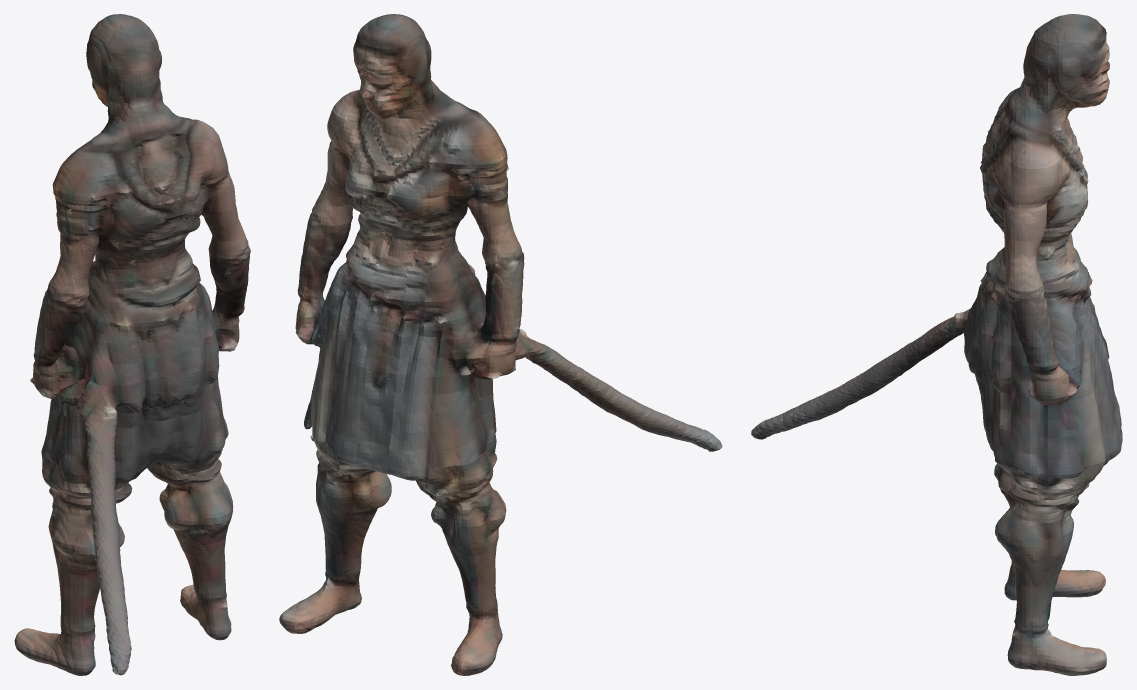
The model's file is girl_1.glb.
3 views of the same model, side by side, from view 1: azimuth 30°, elevation 25°; view 2: azimuth 150°, elevation 25°; view 3: azimuth 270°, elevation 25° (orthographic). The views are drawn at different scales.
Parts seen in each view (by area): view 1: world; view 2: world; view 3: world.
Boxes of the visible parts, x1,y1,x2,y2 form: world: [14, 14, 250, 675]; world: [279, 14, 722, 675]; world: [751, 14, 1122, 675].
Size of the model in its own units: 0.4652 by 1.01 by 0.5526.
